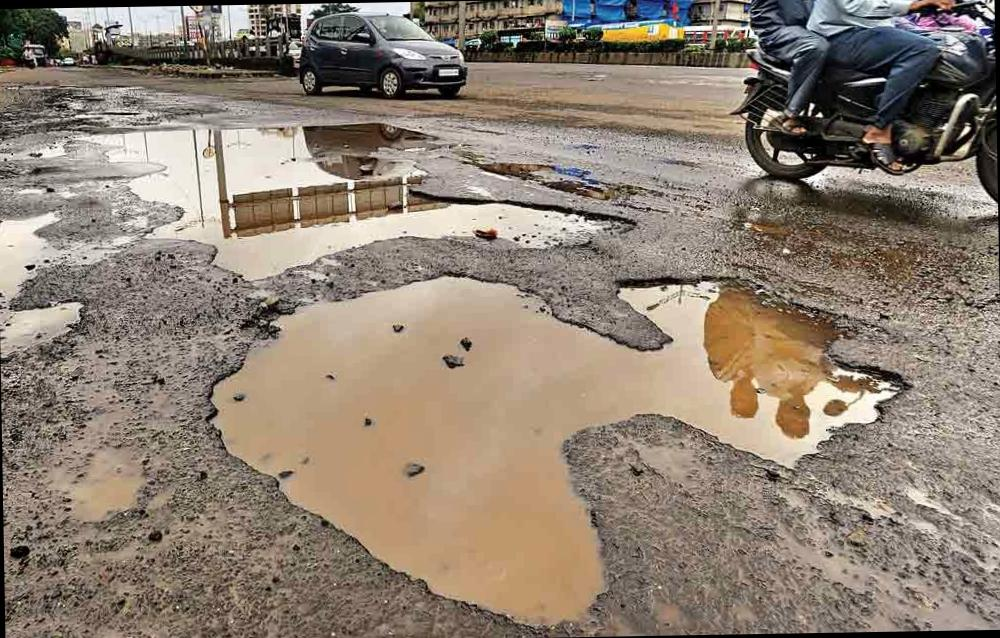pothole: (204, 259, 918, 636), (70, 106, 631, 268), (0, 191, 108, 371)
